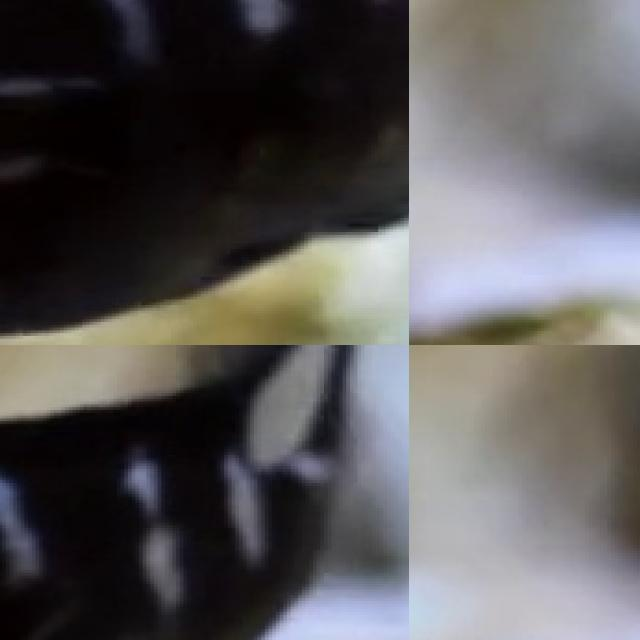fish: (0, 0, 409, 345), (0, 345, 401, 640)
